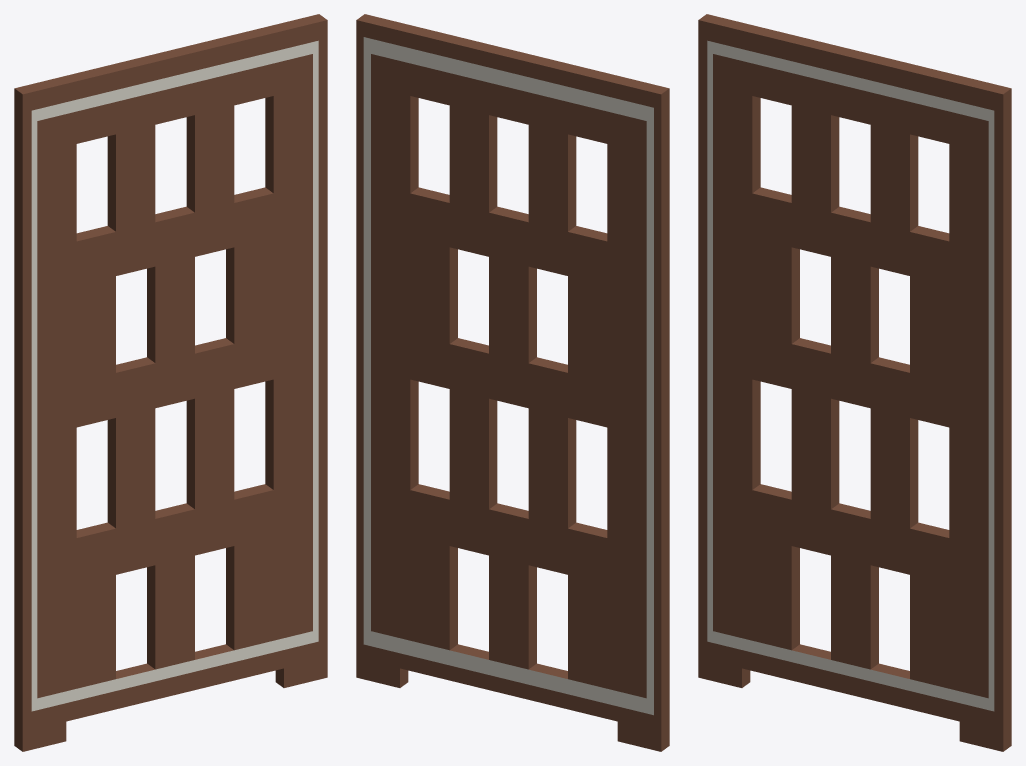
The model's file is Partition_Wall.fbx.
3 renders of one model, left to right at view 1: azimuth 30°, elevation 25°; view 2: azimuth 150°, elevation 25°; view 3: azimuth 330°, elevation 25°, orthographic.
Parts seen in each view (by area): view 1: Partition_Wall; view 2: Partition_Wall; view 3: Partition_Wall.
Boxes of the visible parts, bbox=[...] form: Partition_Wall: bbox=[14, 14, 327, 751]; Partition_Wall: bbox=[356, 14, 669, 751]; Partition_Wall: bbox=[698, 14, 1011, 751].
Bounding box in the file's own units: 1 × 2.06 × 0.0471.
